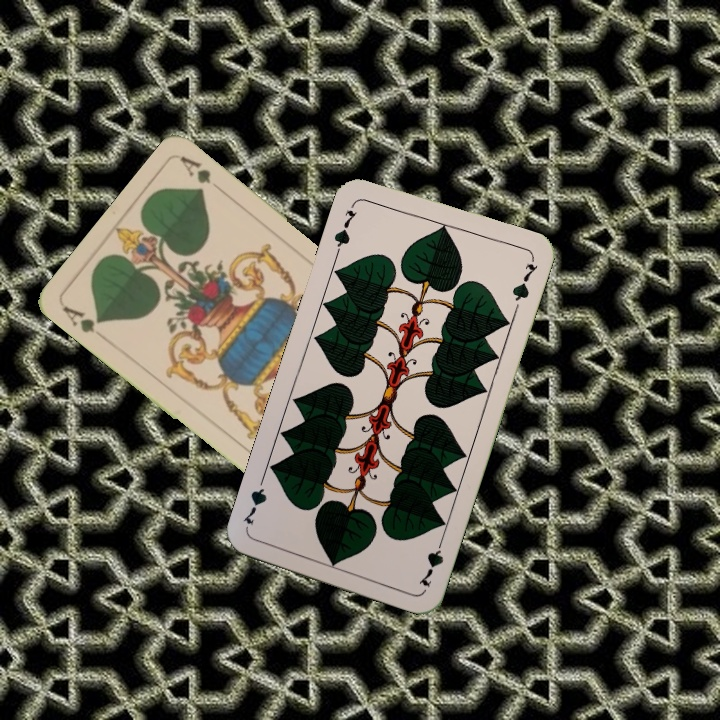G7: (414, 532, 447, 590), (329, 206, 360, 256)
GA: (58, 302, 110, 344)
